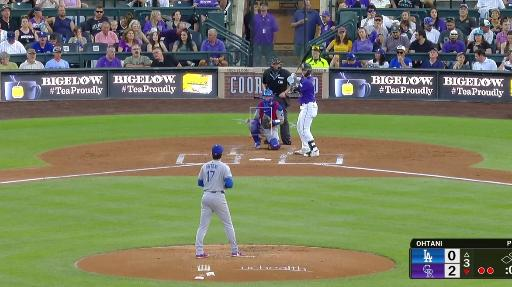pitcher: (196, 144, 243, 259)
